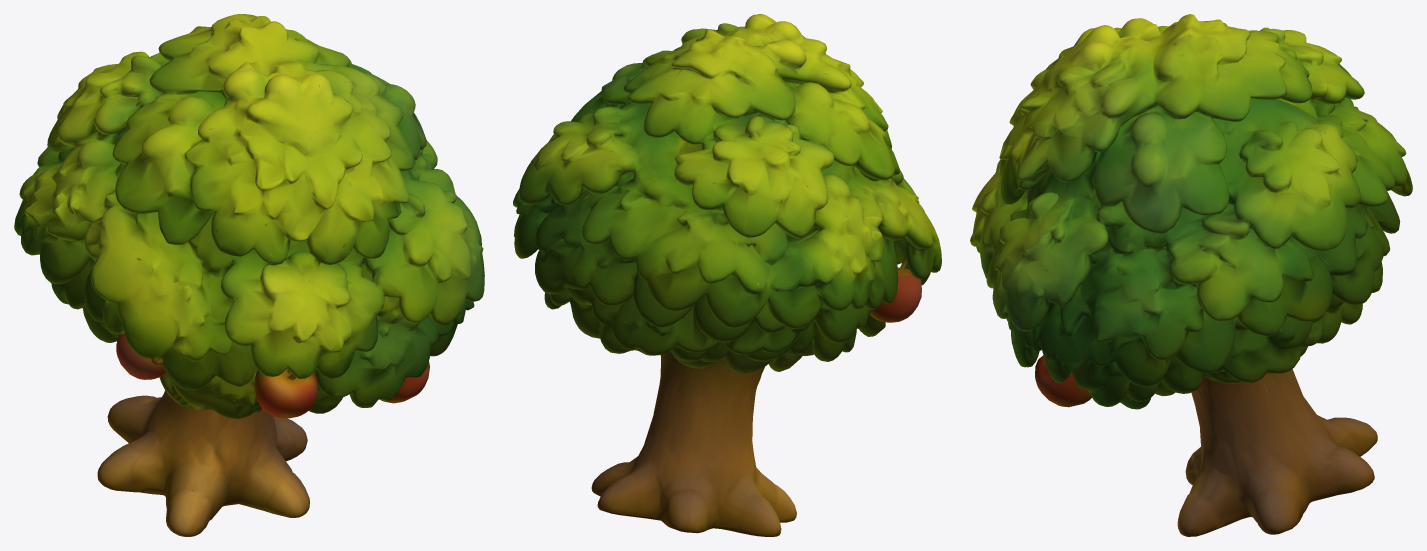
File: apple_tree.glb
The picture shows the model from 3 angles, left to right: view 1: azimuth 30°, elevation 25°; view 2: azimuth 150°, elevation 25°; view 3: azimuth 270°, elevation 25°; orthographic projection. The views are drawn at different scales.
Bounding box in the file's own units: 2.5 × 3.1 × 2.52.
1 material, 1 textured.
